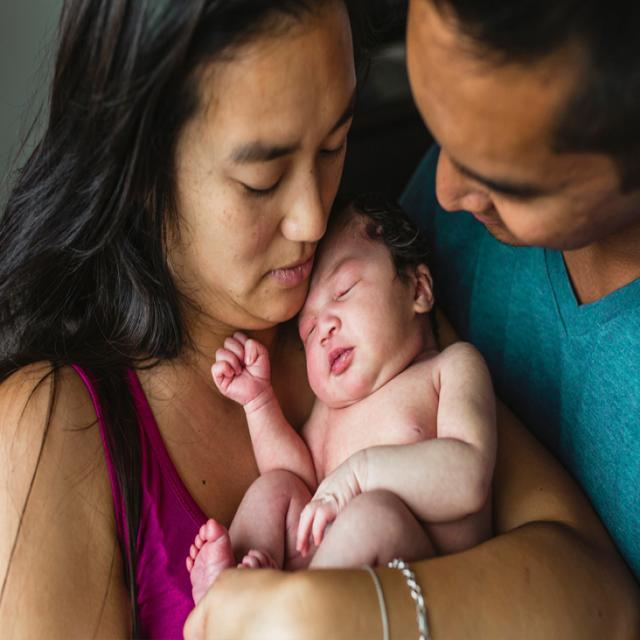non-dog: (2, 0, 360, 635), (400, 2, 640, 573), (188, 198, 499, 598)
